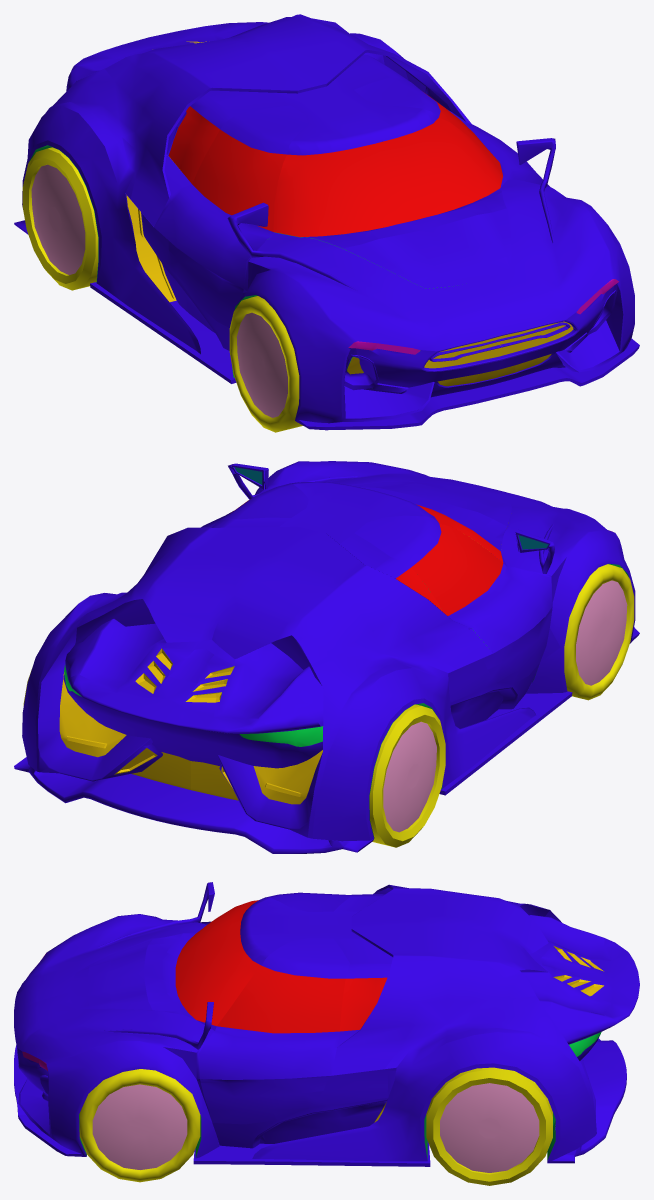
Rendered from Car14_ColorCoded.fbx.
3 renders of one model, top to bottom at view 1: azimuth 30°, elevation 25°; view 2: azimuth 150°, elevation 25°; view 3: azimuth 270°, elevation 25°, orthographic. The views are drawn at different scales.
Parts seen in each view (by area): view 1: carBody, tireBackR, tireFrontR; view 2: carBody, tireBackR, tireFrontR; view 3: carBody, tireBackL, tireFrontL.
Boxes of the visible parts, x1,y1,x2,y2 form: carBody: (14, 14, 639, 430); tireBackR: (22, 147, 98, 290); tireFrontR: (229, 296, 302, 432); carBody: (14, 461, 639, 853); tireBackR: (369, 704, 445, 847); tireFrontR: (564, 564, 634, 700); carBody: (14, 882, 639, 1166); tireBackL: (426, 1067, 552, 1185); tireFrontL: (79, 1069, 200, 1182).
Bounding box in the file's own units: 67.96 × 116 × 39.06.
